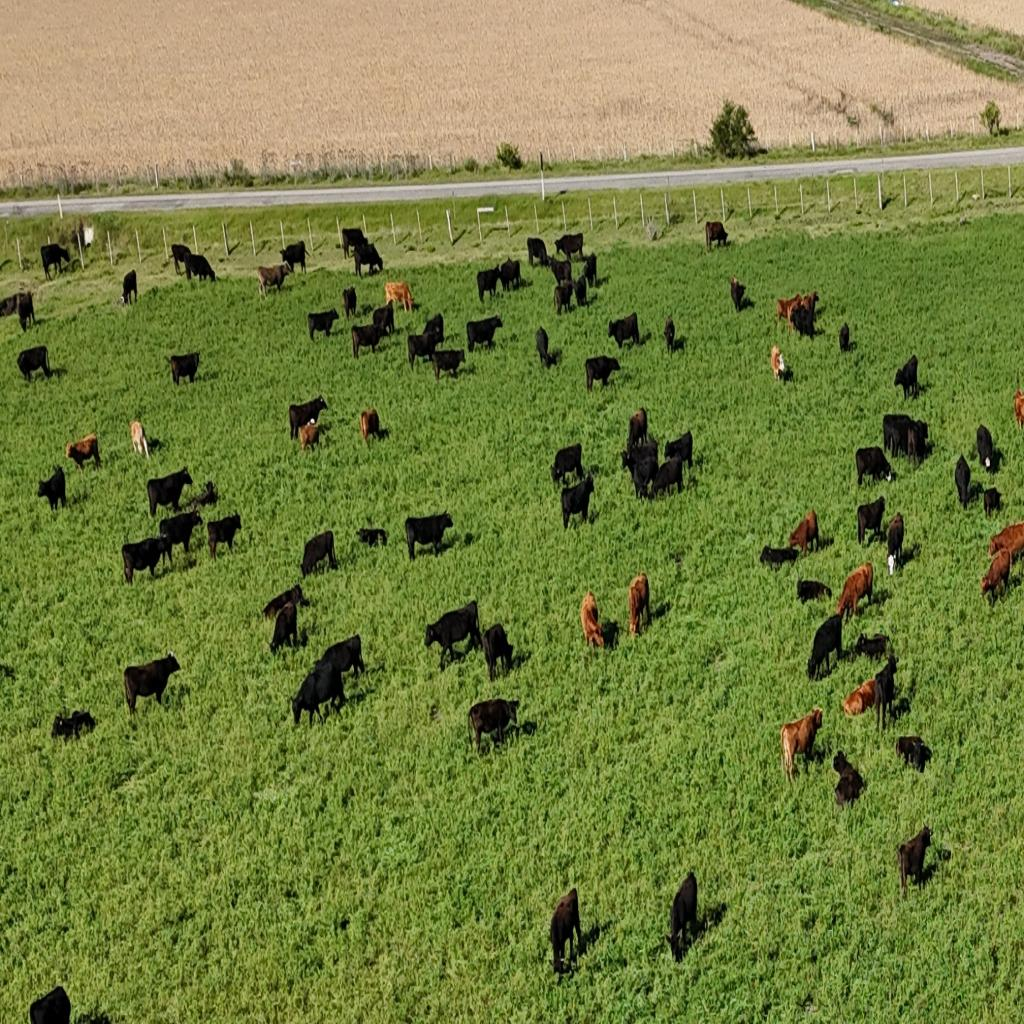cow: (292, 653, 346, 727), (425, 601, 481, 671), (123, 654, 182, 718), (48, 698, 106, 752), (780, 710, 822, 784), (468, 698, 519, 757), (668, 872, 699, 963), (550, 890, 580, 977), (896, 825, 932, 897), (316, 632, 365, 684), (808, 612, 844, 682), (404, 511, 454, 560), (146, 467, 193, 516), (884, 415, 928, 466), (835, 564, 873, 622), (122, 536, 166, 585), (158, 511, 200, 562), (561, 472, 595, 530), (262, 581, 308, 623), (873, 653, 897, 731), (482, 624, 514, 682), (300, 530, 338, 578), (206, 511, 242, 561), (980, 547, 1010, 606), (289, 395, 327, 441), (29, 984, 71, 1023), (627, 448, 658, 500), (649, 456, 685, 500), (270, 598, 298, 654), (989, 522, 1024, 566), (627, 572, 650, 638), (856, 446, 892, 488), (856, 497, 886, 546), (550, 444, 583, 488), (65, 432, 101, 472), (580, 590, 604, 650), (407, 329, 441, 371), (179, 478, 217, 514), (466, 316, 500, 356), (896, 734, 930, 773), (788, 512, 818, 556), (37, 467, 66, 512), (585, 354, 620, 391), (17, 345, 51, 383), (834, 768, 864, 810), (351, 322, 385, 359), (168, 350, 202, 386), (664, 430, 693, 472), (607, 312, 639, 349), (431, 347, 465, 381), (894, 354, 919, 400), (353, 242, 383, 280), (257, 262, 290, 296), (307, 308, 339, 342), (776, 294, 803, 334), (40, 242, 68, 280), (887, 511, 904, 573), (854, 632, 890, 661), (760, 545, 799, 571), (535, 325, 557, 371), (790, 302, 816, 340), (796, 578, 832, 605), (626, 407, 648, 451), (976, 424, 996, 472), (280, 241, 307, 276), (186, 252, 216, 283), (385, 281, 414, 313), (477, 266, 500, 306), (955, 454, 971, 510), (372, 301, 396, 337), (340, 227, 366, 260), (554, 232, 582, 262), (130, 419, 150, 458), (356, 526, 388, 550), (705, 220, 729, 252), (170, 244, 194, 276), (526, 236, 550, 268), (17, 292, 36, 332), (500, 259, 522, 292), (360, 408, 380, 444), (553, 280, 573, 316), (550, 256, 572, 288), (423, 312, 445, 343), (730, 275, 748, 312), (122, 269, 138, 306), (582, 251, 598, 288), (832, 748, 853, 776), (0, 292, 21, 319), (984, 488, 1002, 518), (770, 346, 785, 382), (342, 285, 356, 321), (574, 274, 587, 308), (838, 321, 850, 353), (664, 318, 674, 354), (1017, 388, 1024, 429)
